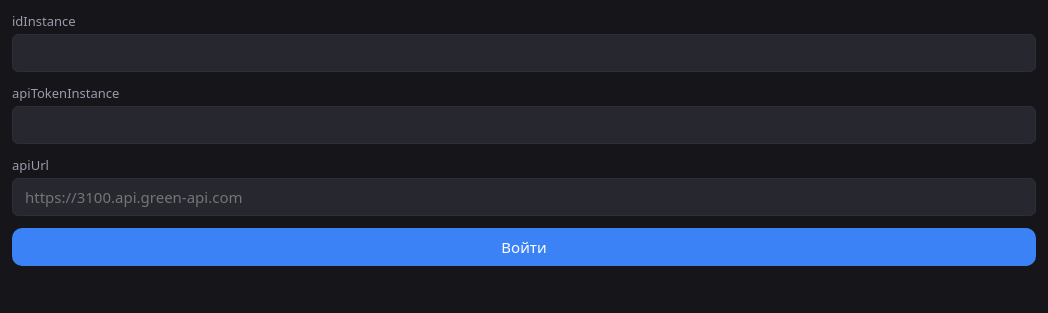
Test case: LoginForm › shows a readable error and keeps the session empty on failure
Type "1234567890" into the field labelled "idInstance" at (524, 53), box [12,34,1036,72]
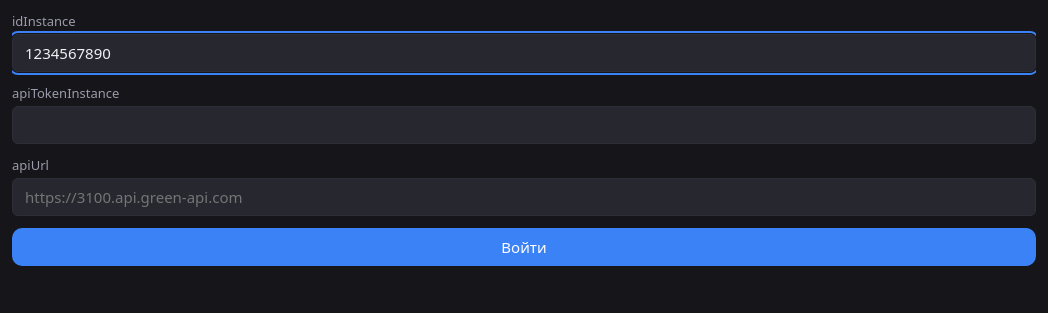
Type "wrong-token" into the password field labelled "apiTokenInstance" at (524, 125), box [12,106,1036,144]
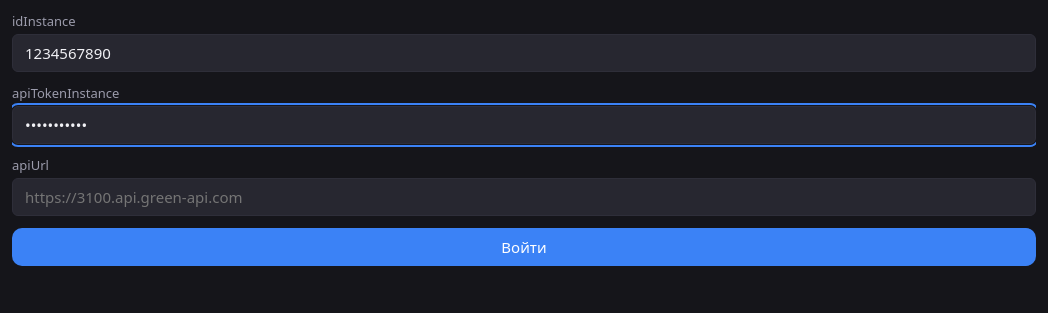
Type "https://test.green-api.local" into the field labelled "apiUrl" at (524, 197), box [12,178,1036,216]
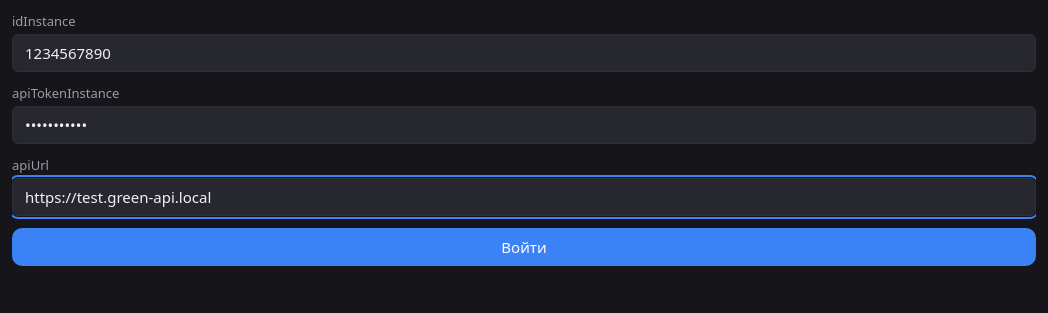
Click the button "Войти" at (524, 247), box [12,228,1036,266]
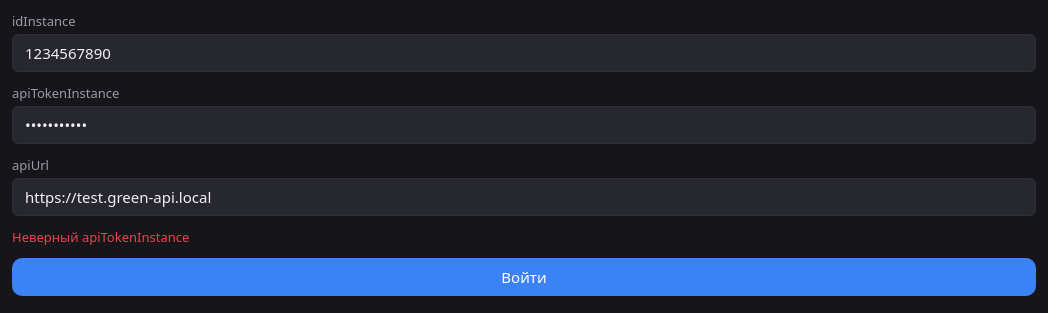
Expected: the message reads "Неверный apiTokenInstance", [12,228,189,246]
